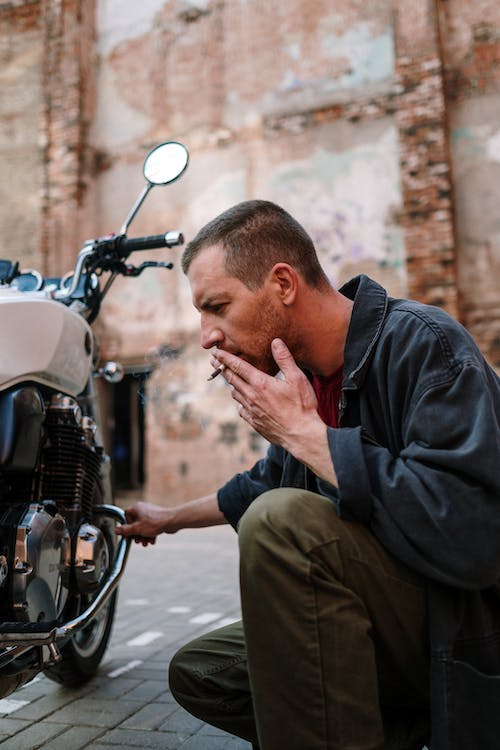cigarette: (206, 361, 228, 383)
